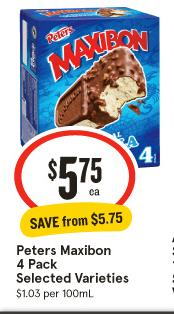description_block: (4, 242, 146, 288), (11, 285, 103, 303)
price_main: (20, 144, 126, 204)
product_image_block: (14, 6, 164, 140)
promo_text_block: (13, 206, 140, 236)
